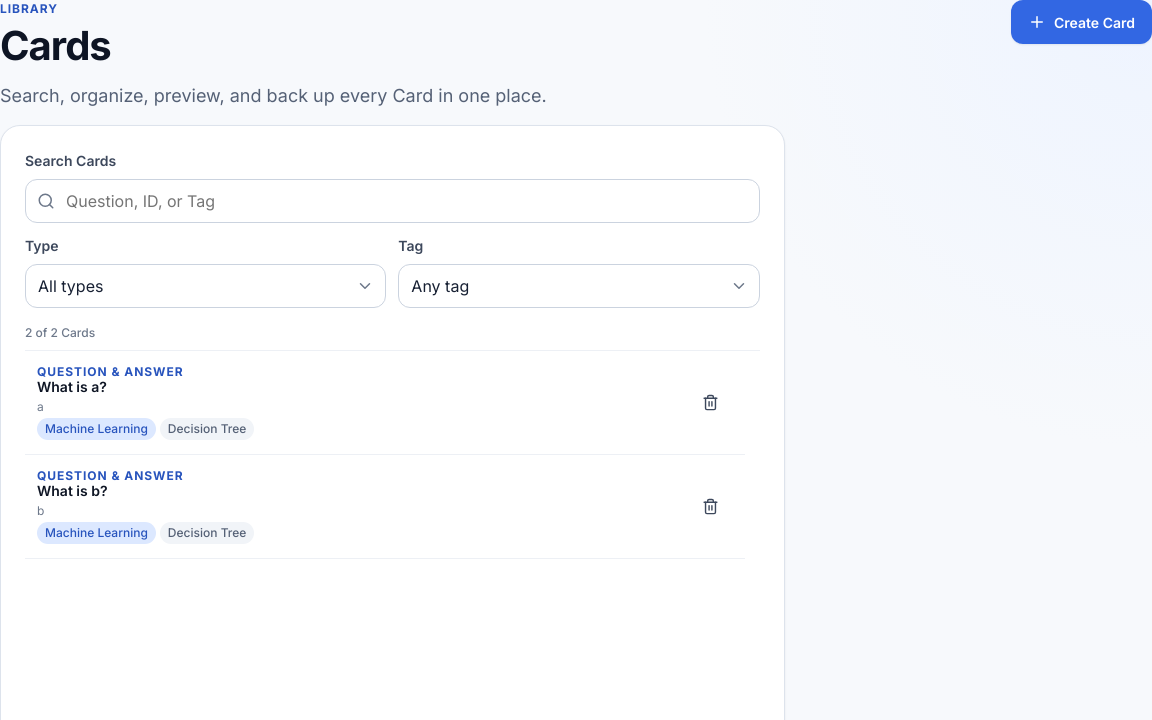
Test case: Delete in the modal closes it, deletes that Card and shows Card deleted.
Click the button named "Delete b" at (711, 506), box [689,484,733,528]
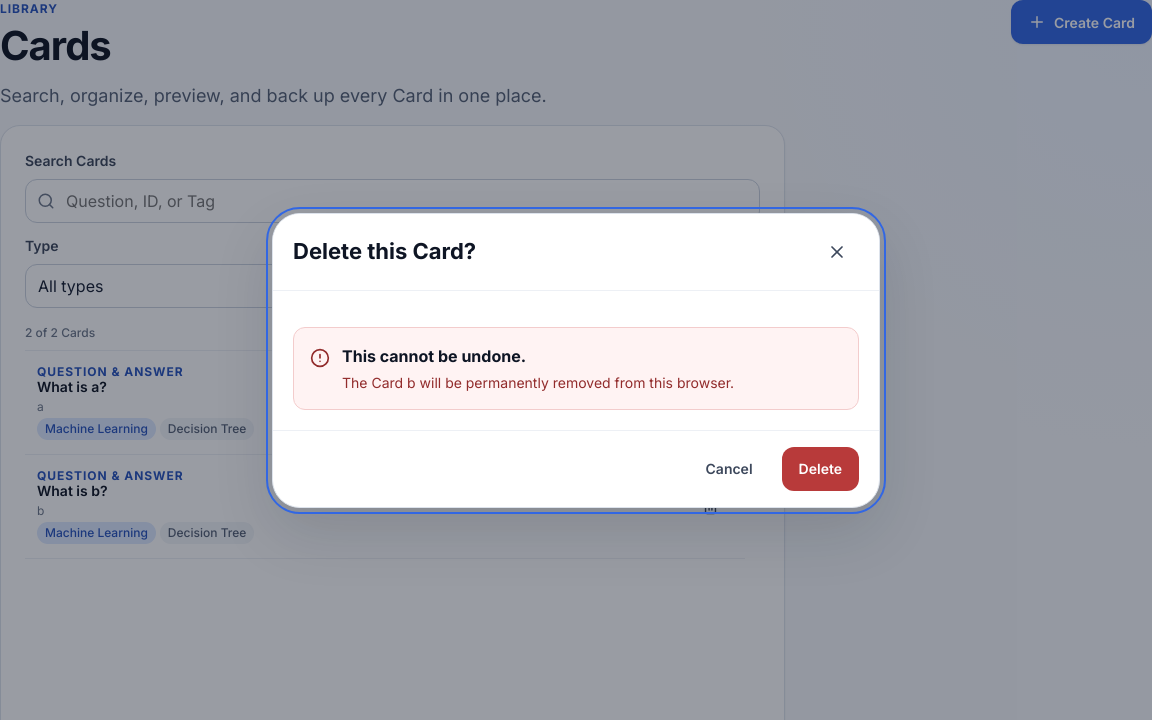
Click the button "Delete" at (820, 468), box [782,446,859,490]
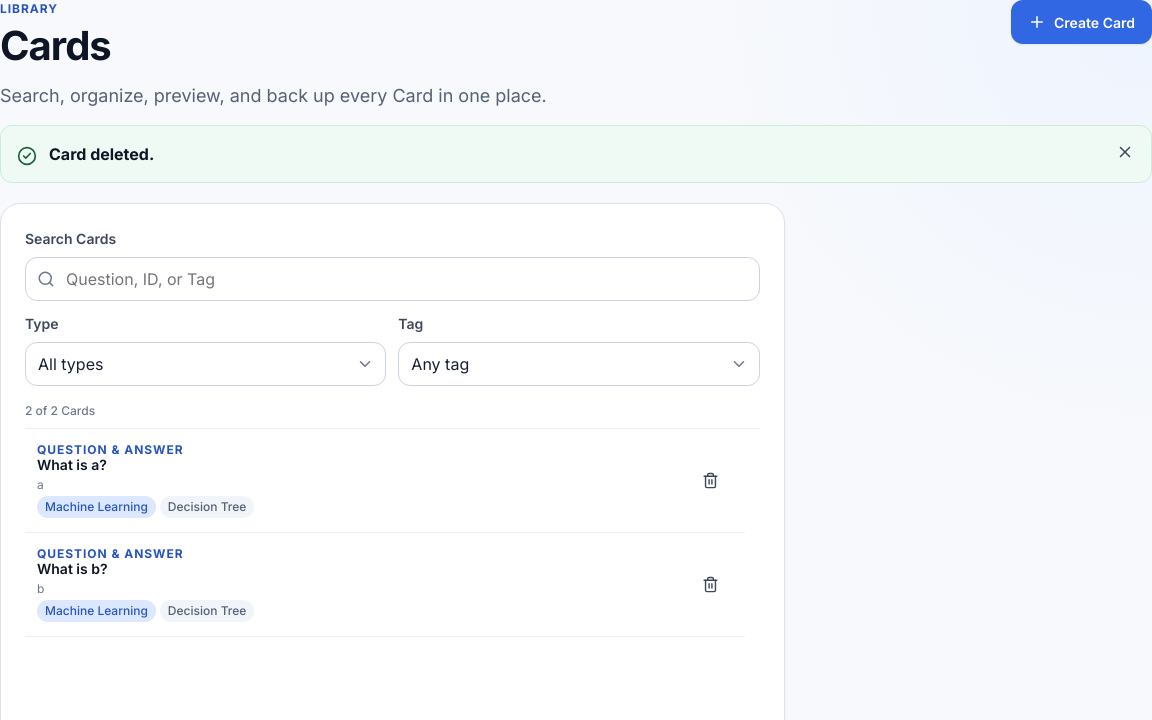
Expected: the dialog is gone
Expected: the message reads "Card deleted.", [49,144,154,164]
